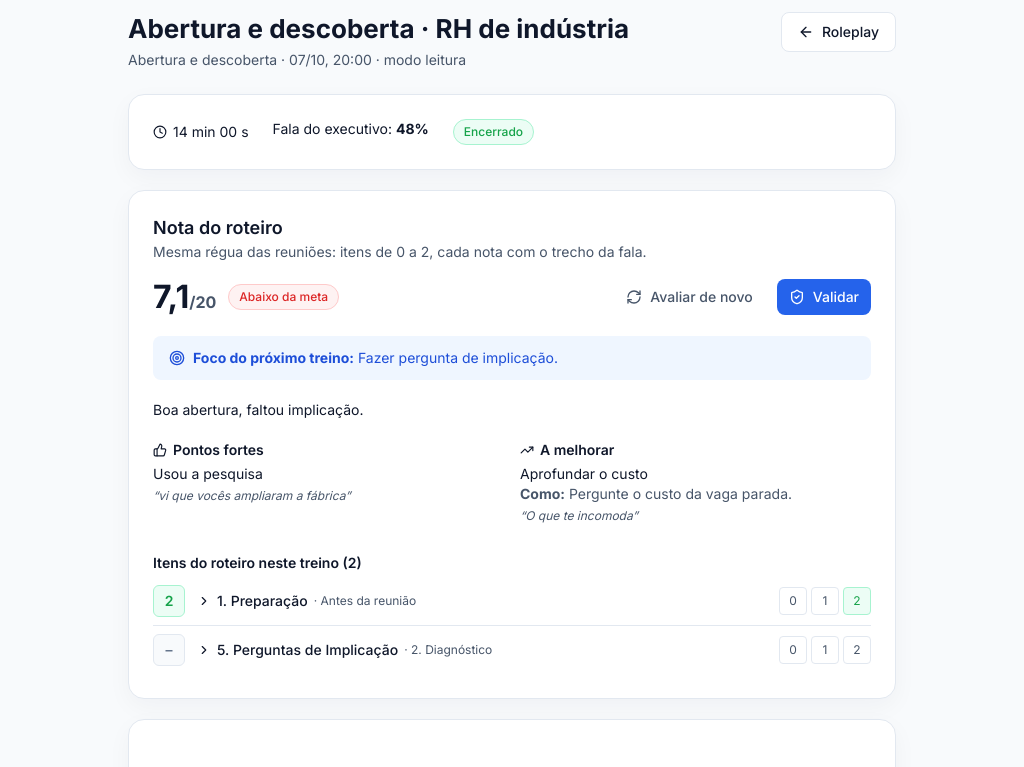
it: Nota do roleplay (RP-2) › gestão ajusta item e valida
Step 1. Click the 2nd button "2" → (857,650), box x1=843 y1=636 x2=871 y2=664
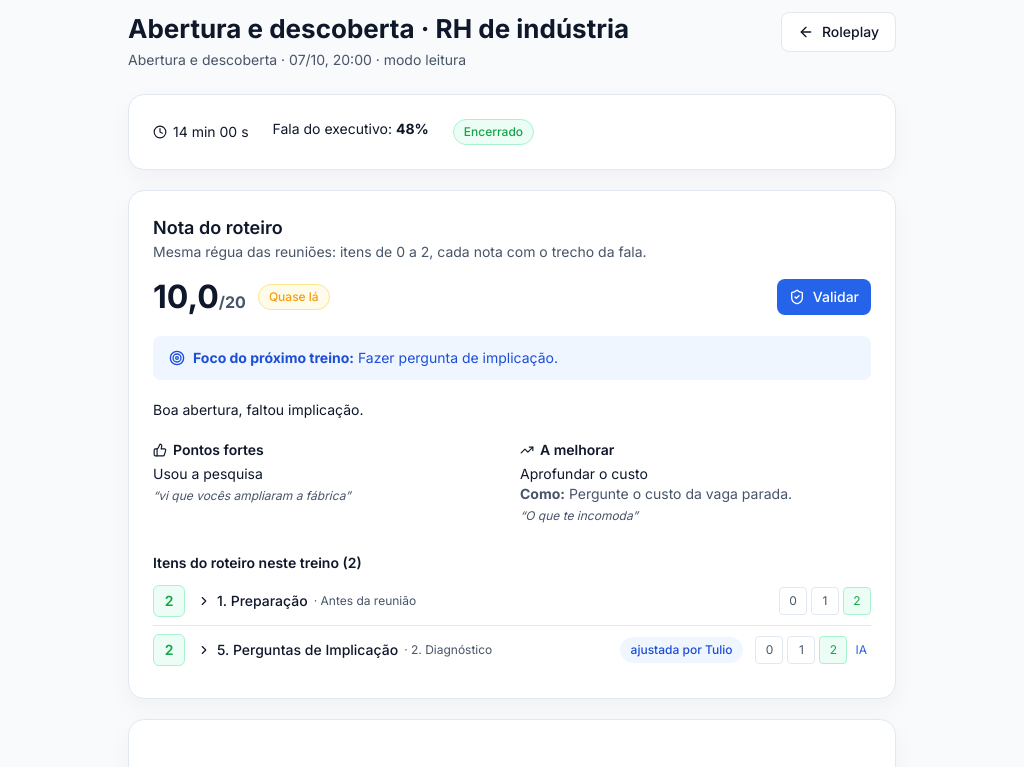
expect the text "ajustada por Tulio" is shown: met, box x1=620 y1=637 x2=744 y2=663
expect the text "10,0" is shown: met, box x1=153 y1=277 x2=219 y2=316
Step 2. Click the button "Validar" → (824,297), box x1=777 y1=279 x2=871 y2=315
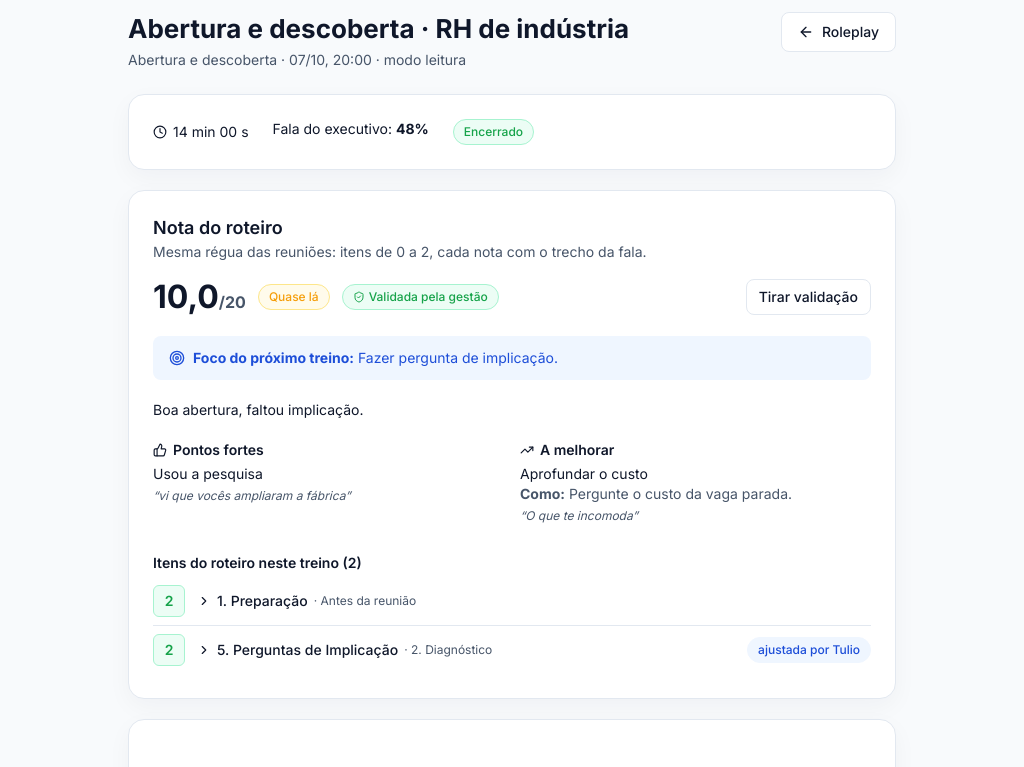
expect the text "Validada pela gestão" is shown: met, box x1=342 y1=284 x2=499 y2=310
